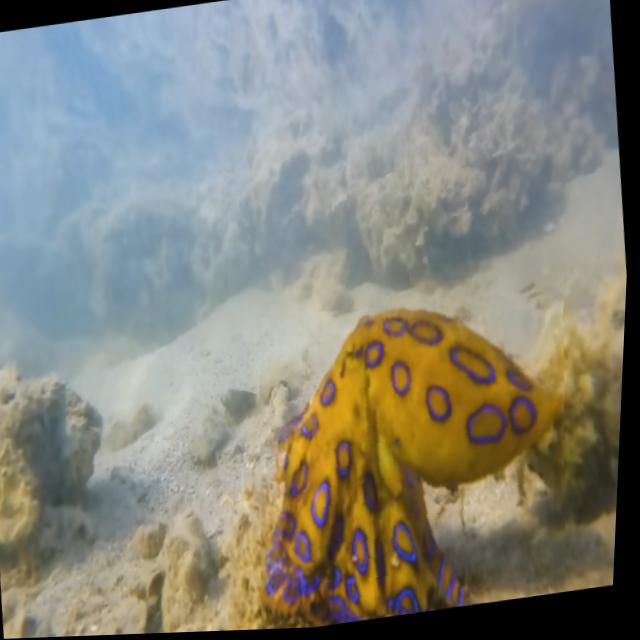blue_ringed_octopus: (240, 281, 594, 632)
